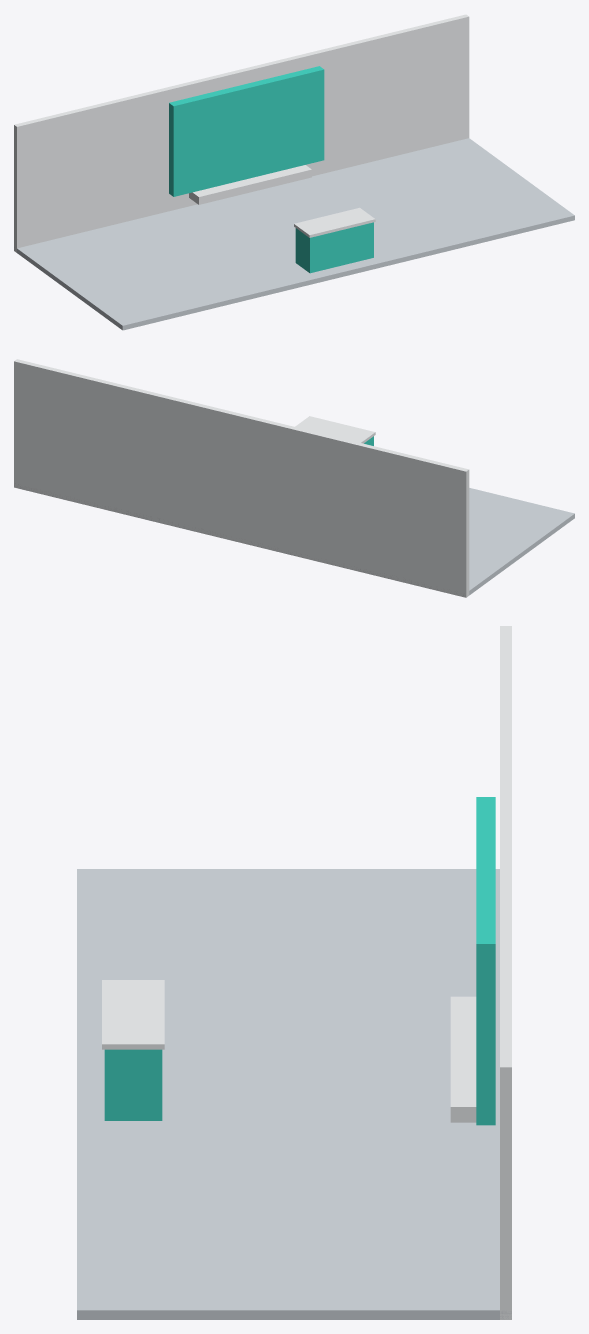
The picture shows the model from 3 angles, top to bottom: view 1: azimuth 30°, elevation 25°; view 2: azimuth 150°, elevation 25°; view 3: azimuth 270°, elevation 25°; orthographic projection. The views are drawn at different scales.
Visible parts, largest first — view 1: Exhibition Booth Concept; view 2: Exhibition Booth Concept; view 3: Exhibition Booth Concept.
Boxes of the visible parts, x1,y1,x2,y2 form: Exhibition Booth Concept: (14,14,574,330); Exhibition Booth Concept: (14,359,574,597); Exhibition Booth Concept: (77,626,511,1319).
Bounding box in the file's own units: 12 × 3.2 × 5.
